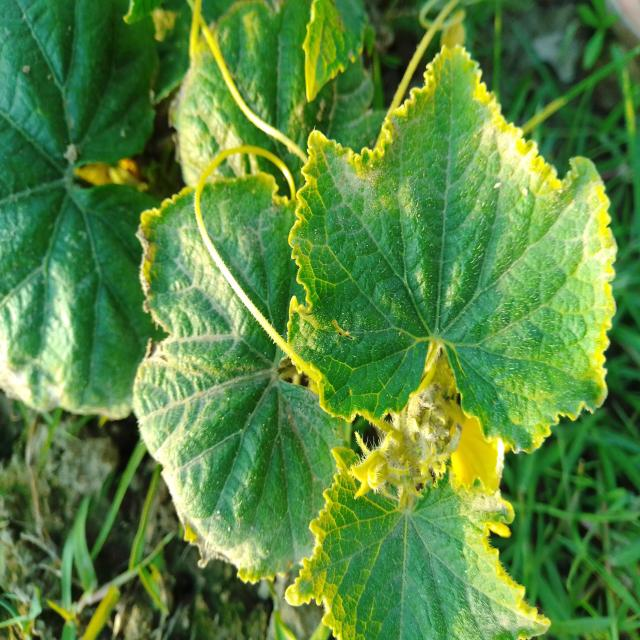cucumber_healthy: (281, 42, 623, 459), (126, 168, 369, 586), (0, 0, 172, 422), (274, 421, 555, 640)
